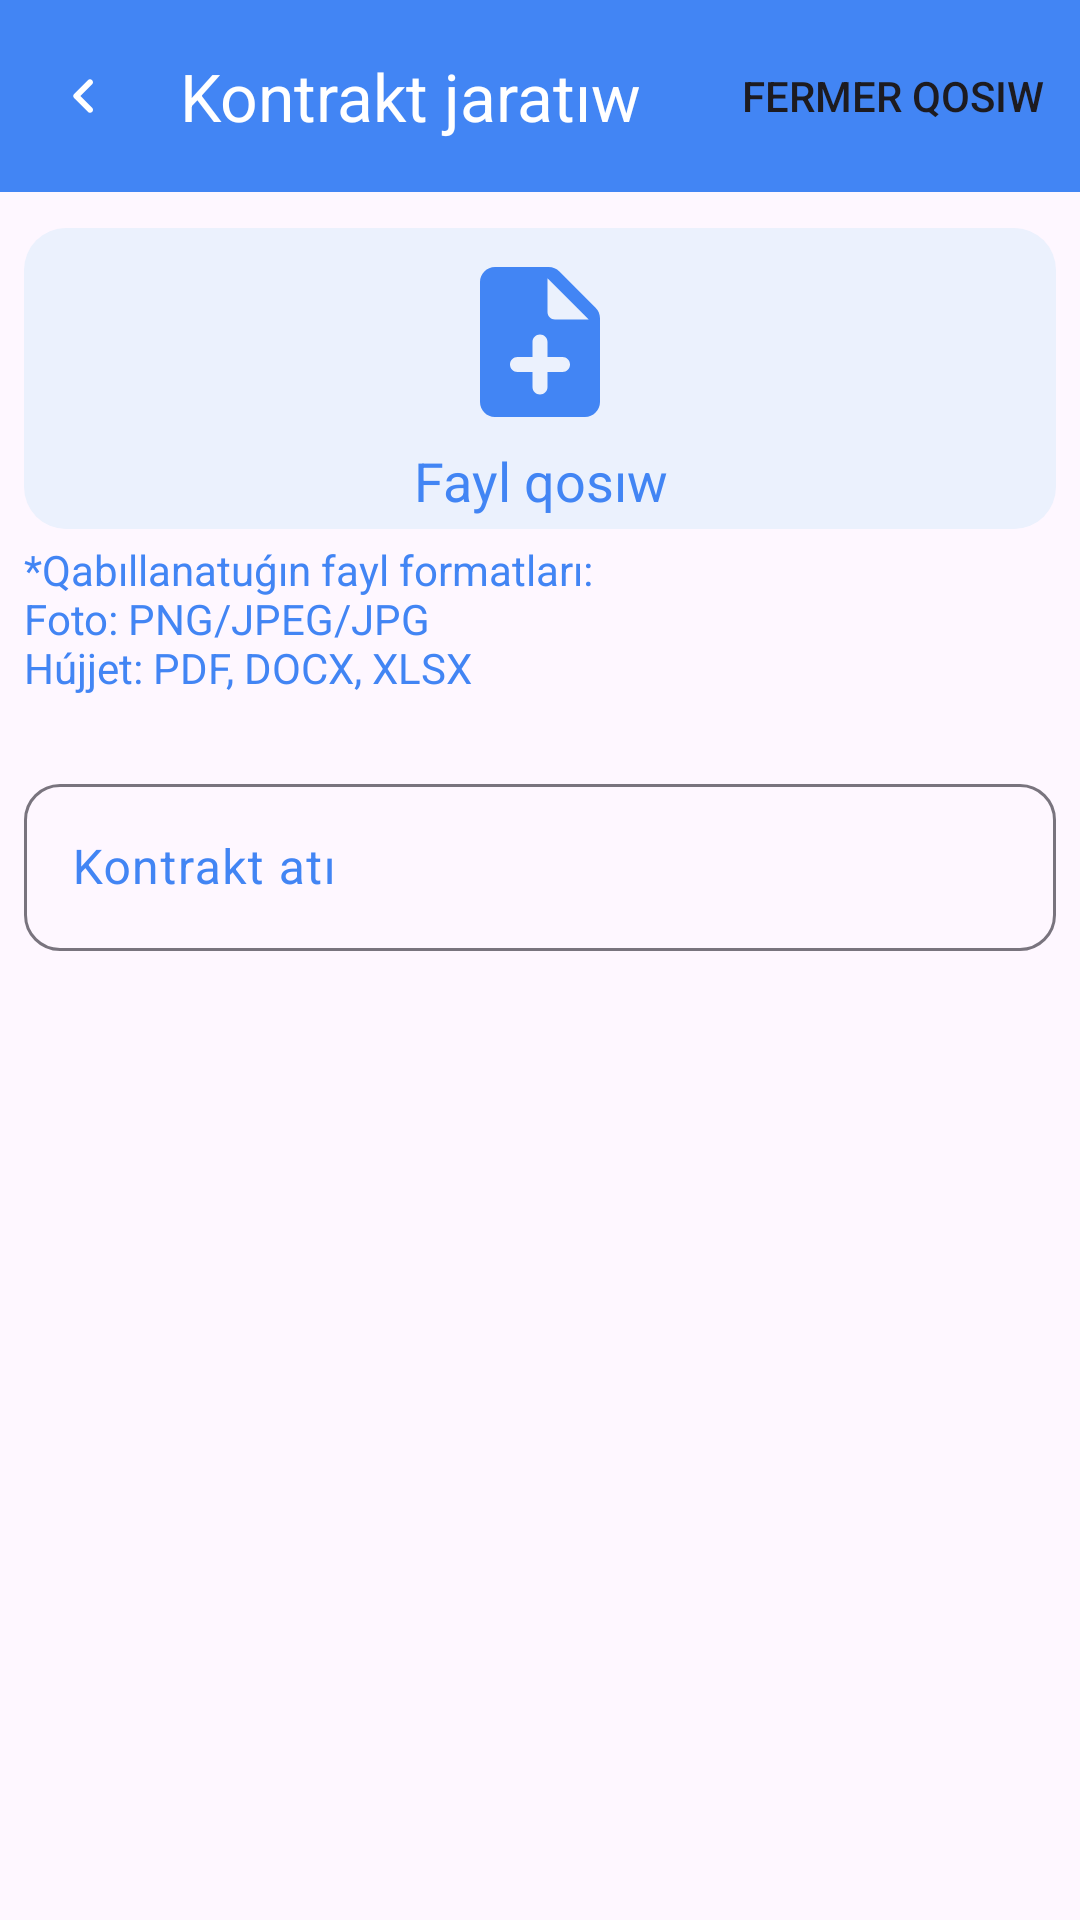

Screen size 1080×1920. Icon name, then its center in pixels as [x,y]:
file add: [540,342]
